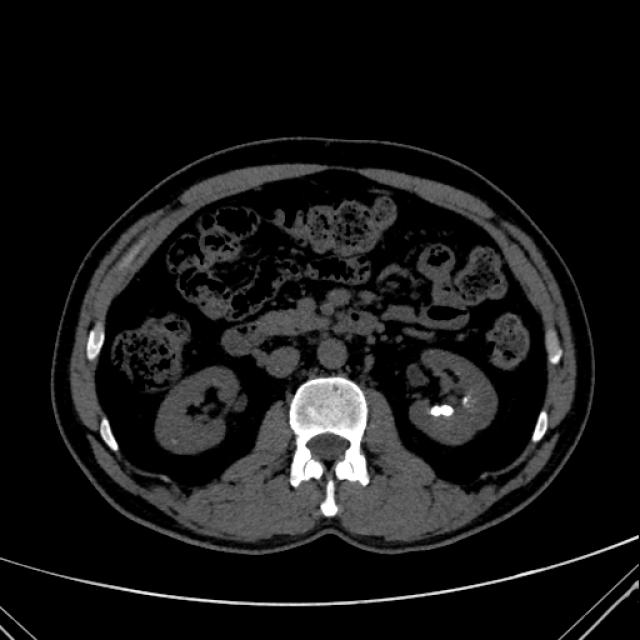kidneystone: (430, 405, 454, 417)
